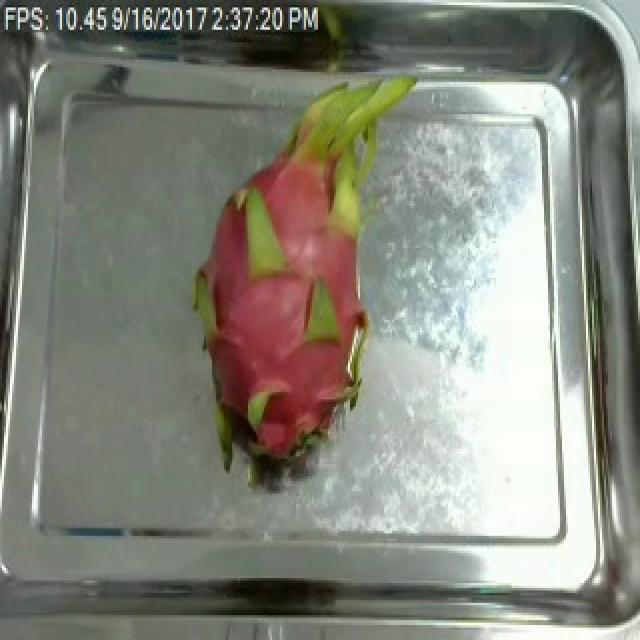fruit: (162, 72, 408, 499)
